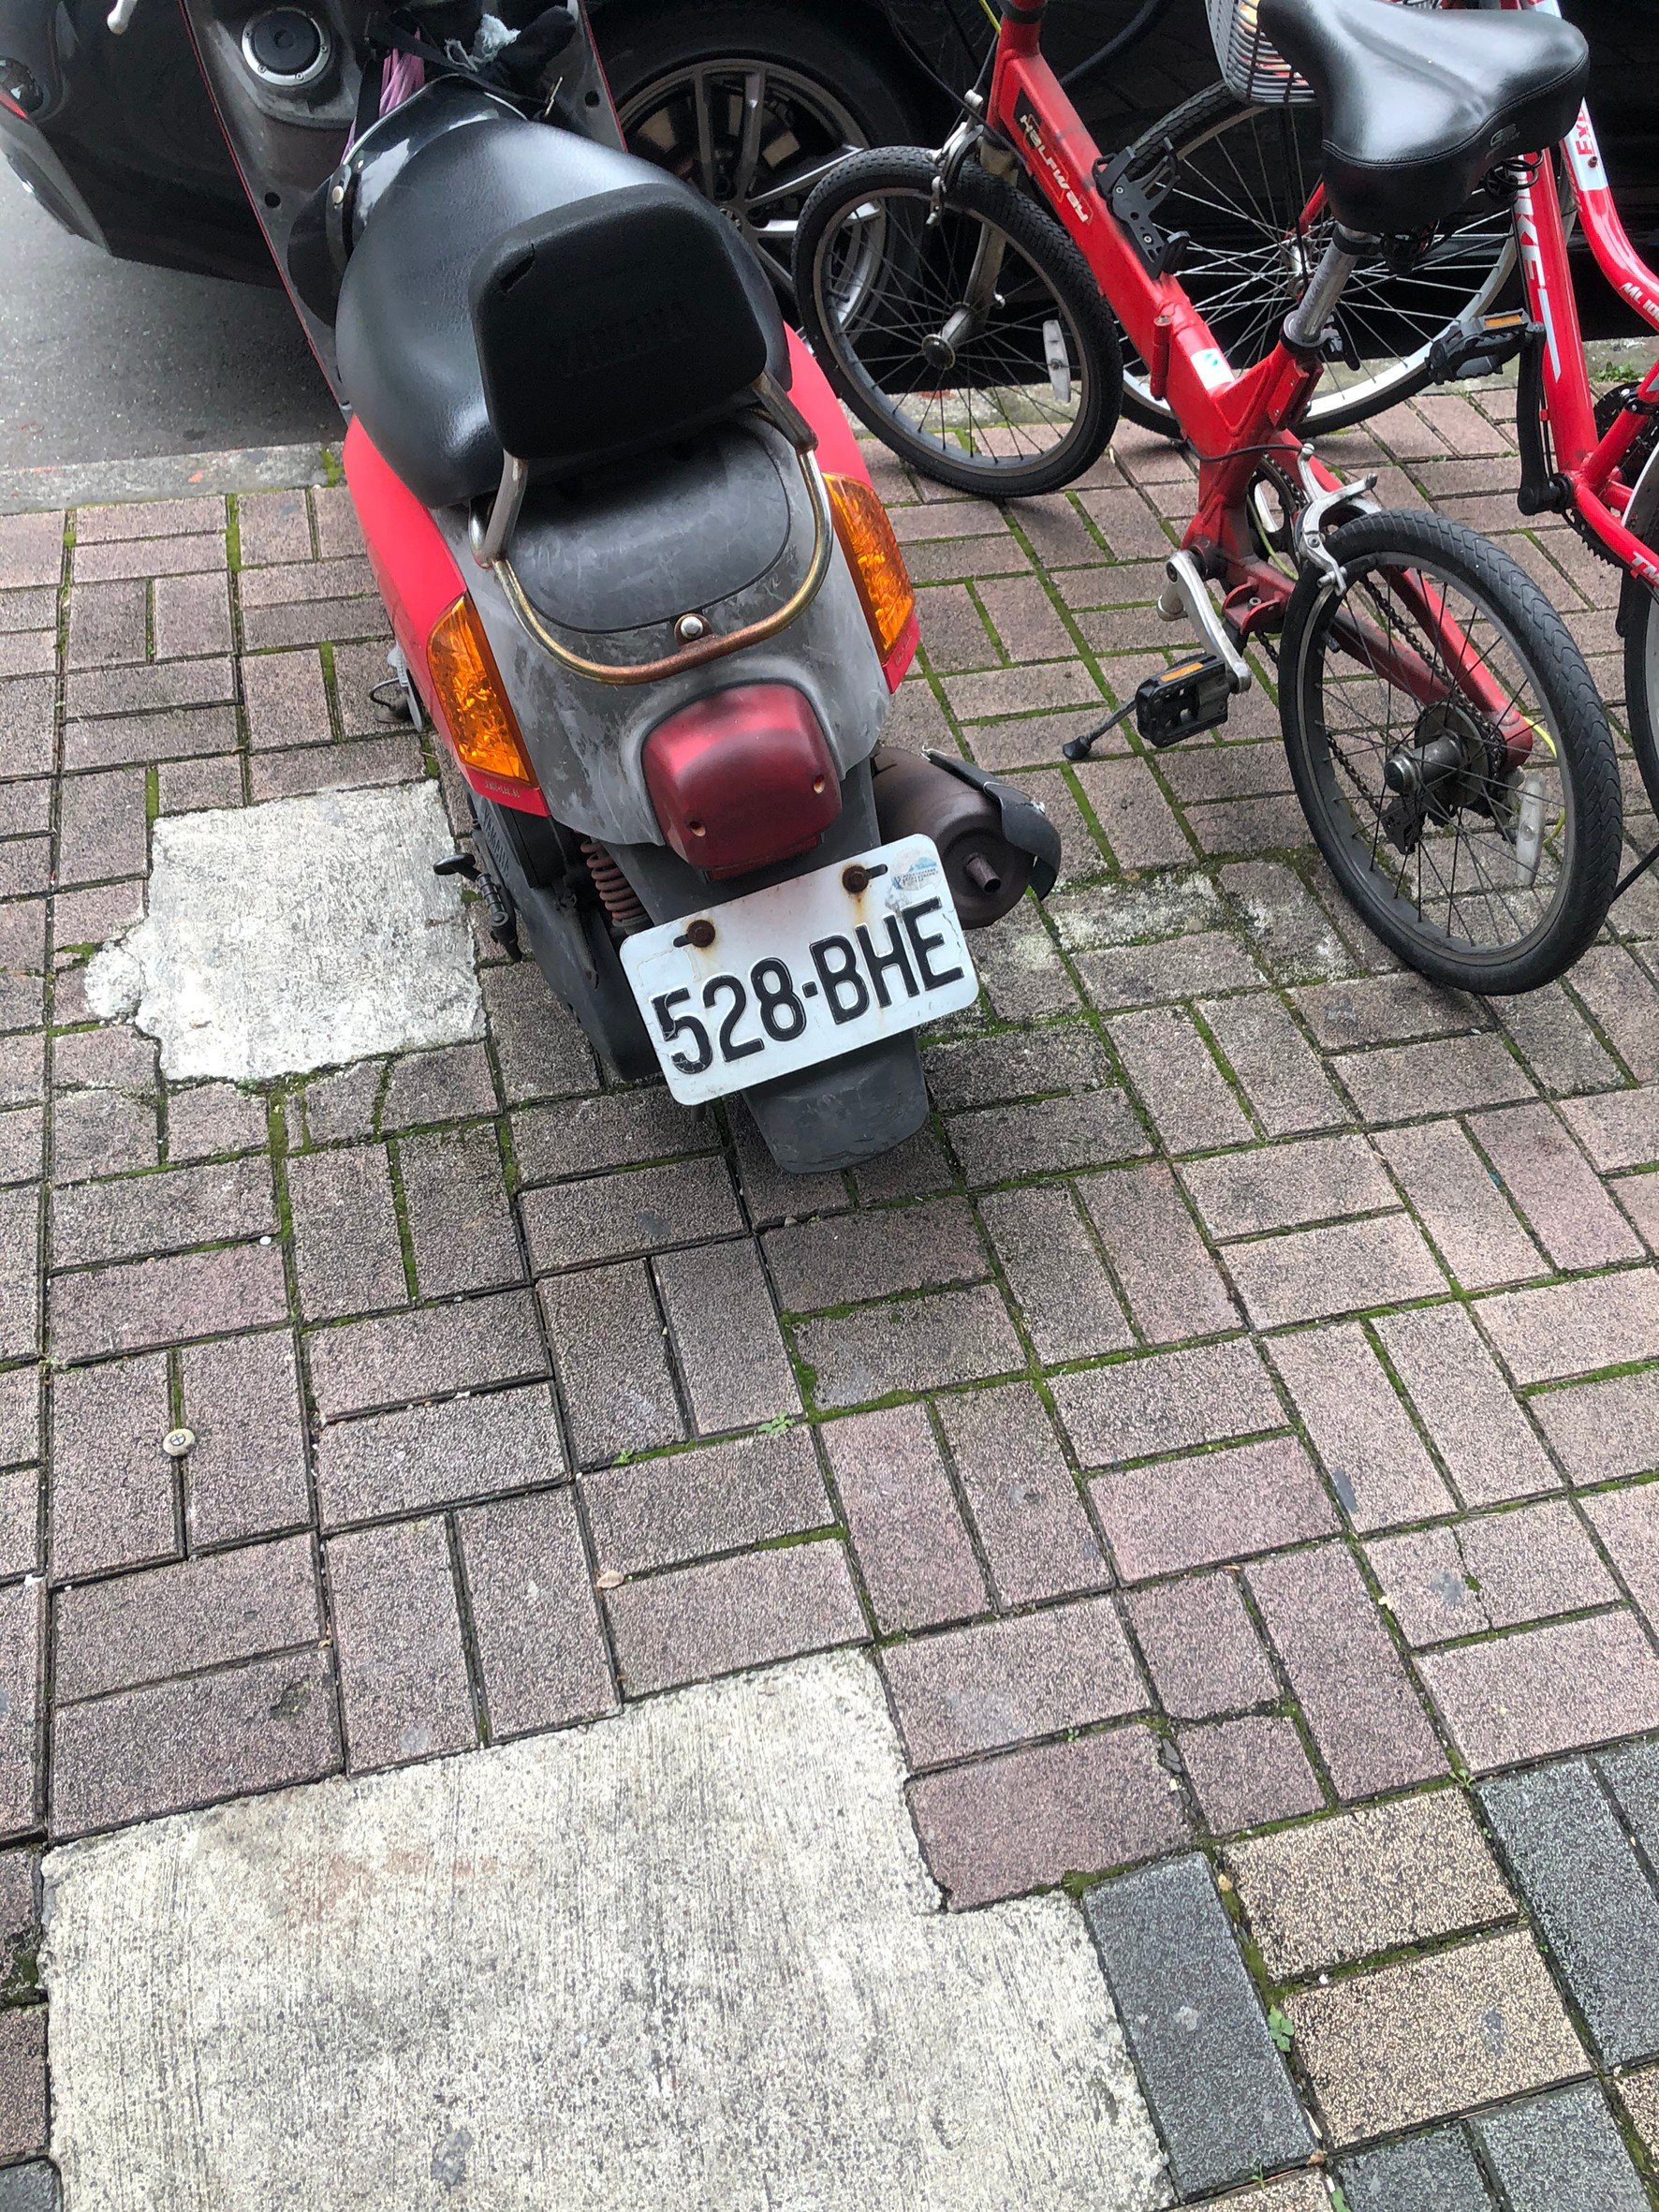LP: (627, 901, 985, 1079)
